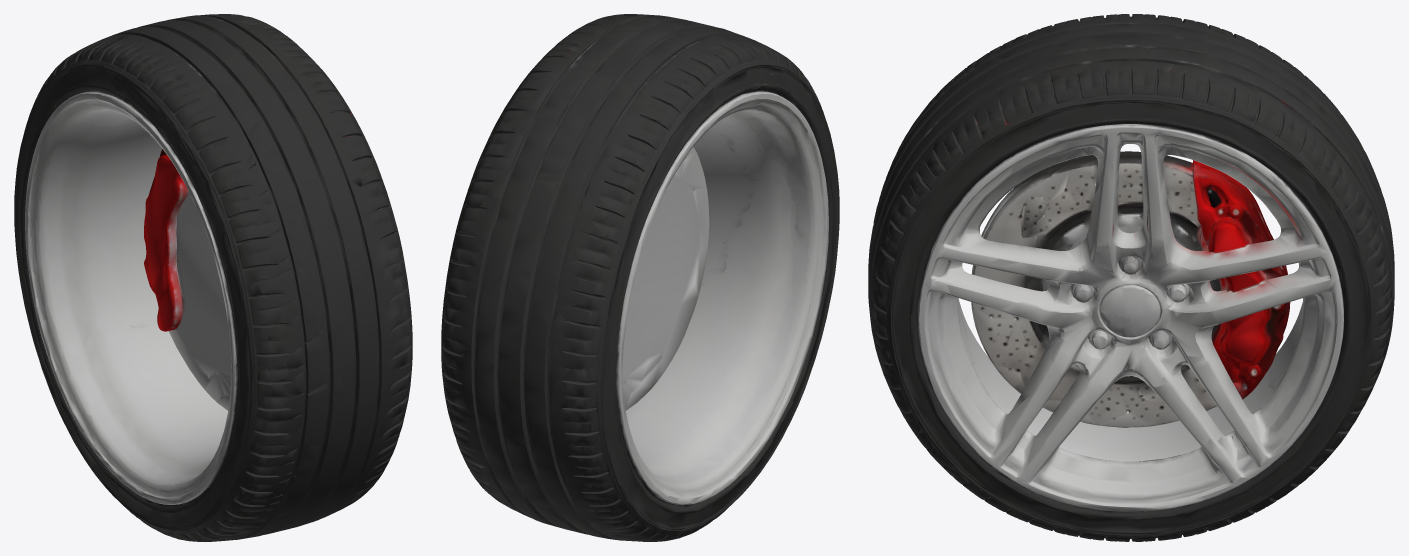
The model's file is wheel_sport.glb.
The picture shows the model from 3 angles, left to right: view 1: azimuth 30°, elevation 25°; view 2: azimuth 150°, elevation 25°; view 3: azimuth 270°, elevation 25°; orthographic projection.
Visible parts, largest first — view 1: material; view 2: material; view 3: material.
Part boxes in pixels (bbox=[...]): material: bbox=[14, 14, 412, 541]; material: bbox=[441, 14, 839, 541]; material: bbox=[868, 14, 1394, 541].
Bounding box in the file's own units: 0.3727 × 0.9989 × 0.9997.
Materials: 1 (1 with a texture image).
